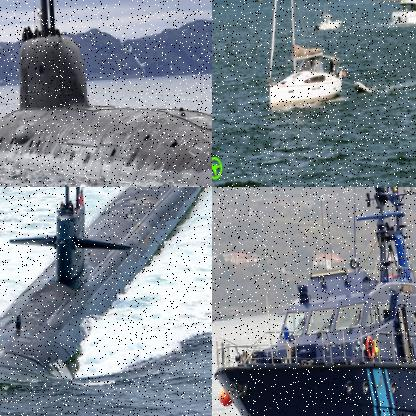Patrol Boat: (212, 187, 415, 415), (312, 1, 342, 30)
Sails Boat: (252, 0, 349, 110)
Submarine: (0, 187, 211, 385), (0, 0, 211, 186)
